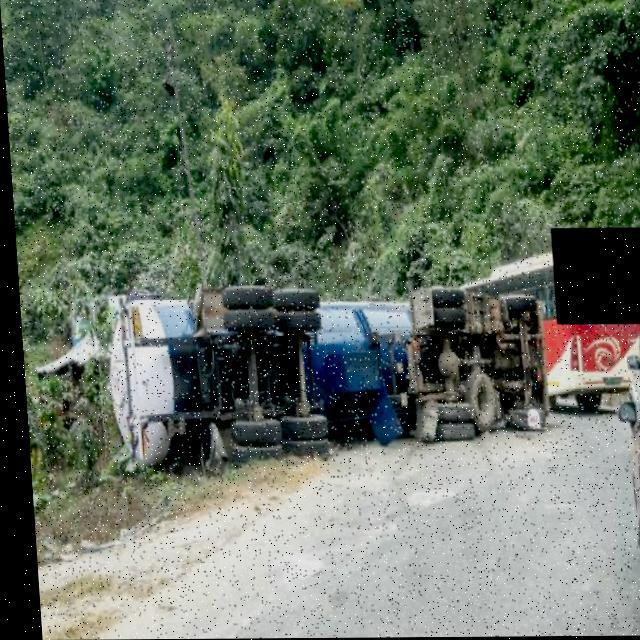single accident: (91, 219, 566, 500)
